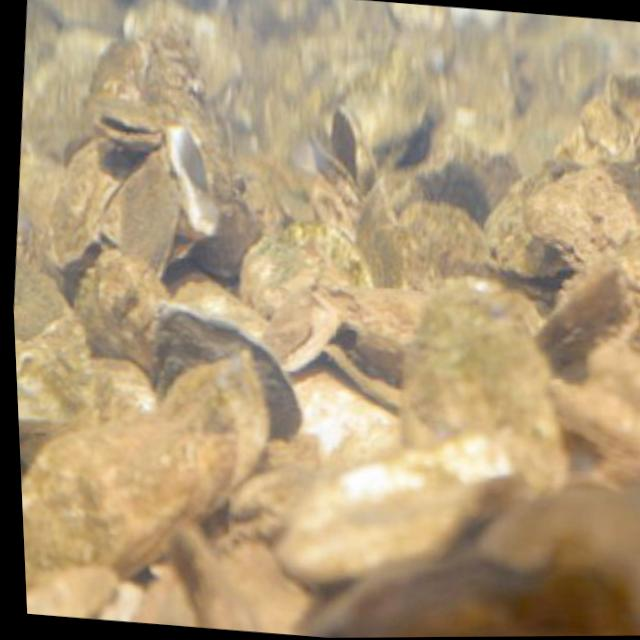Oyster-Indeterminate: (21, 350, 268, 582), (408, 281, 568, 507), (288, 432, 502, 582), (152, 308, 304, 444), (236, 228, 358, 369), (520, 161, 640, 303), (14, 243, 101, 431), (79, 251, 171, 372), (399, 191, 506, 289), (48, 139, 128, 266), (100, 142, 178, 268), (536, 266, 628, 363), (357, 178, 407, 289), (92, 38, 151, 113)
Oyster-Open: (163, 119, 228, 234), (306, 109, 375, 208), (95, 98, 165, 154)
